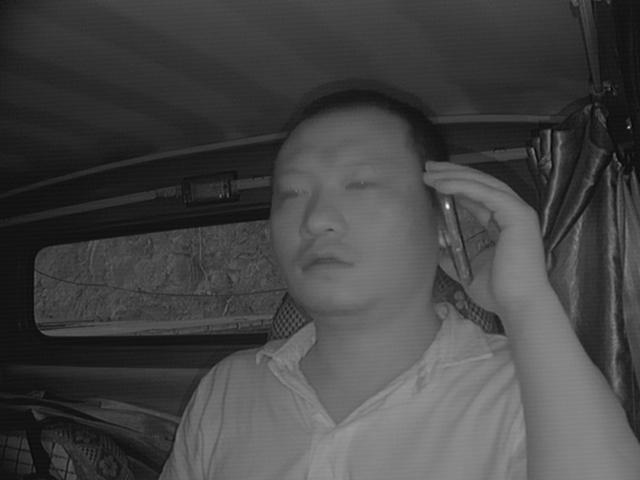hand: (421, 158, 543, 321)
